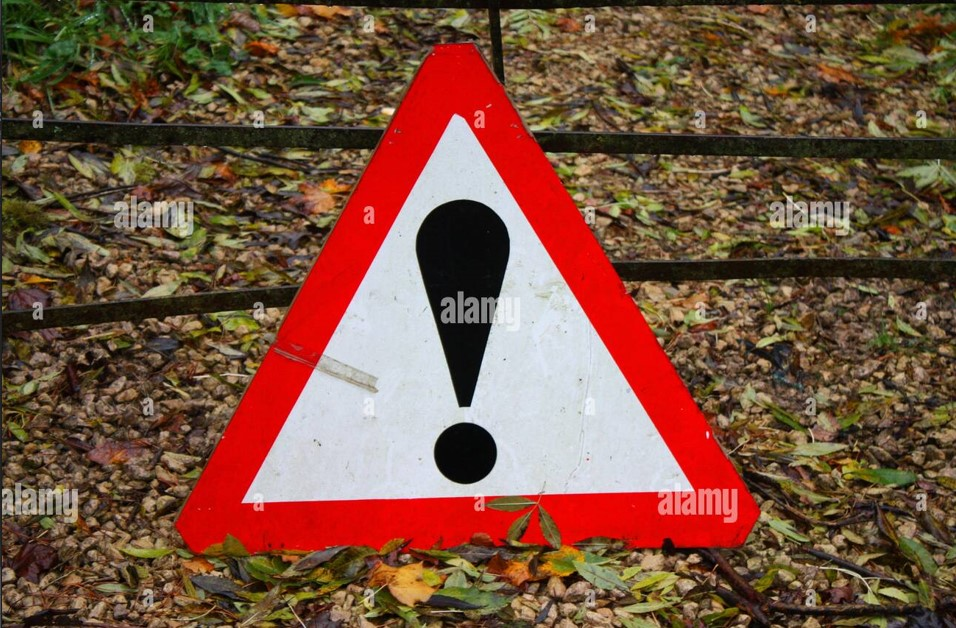Danger: (175, 39, 763, 559)
